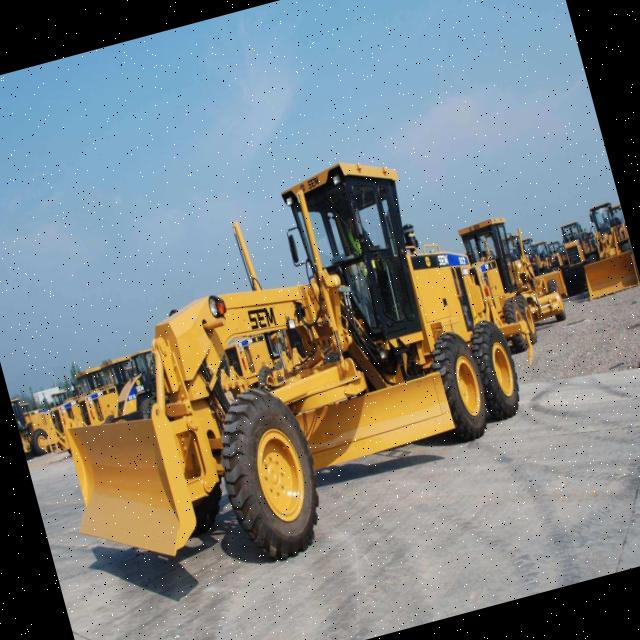Grader: (0, 87, 564, 611)
